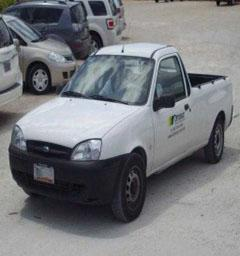car: (2, 29, 237, 228)
